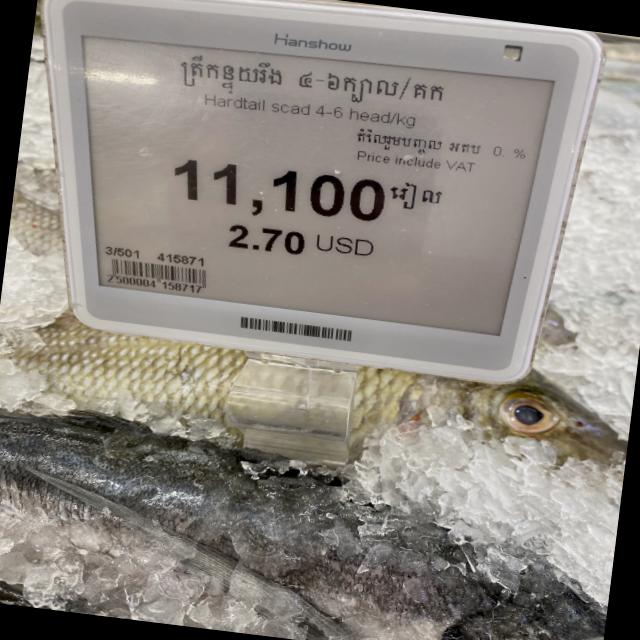1: (165, 47, 454, 114)
3: (352, 123, 534, 170)
Yolov11_80vkh: (386, 178, 449, 214)
